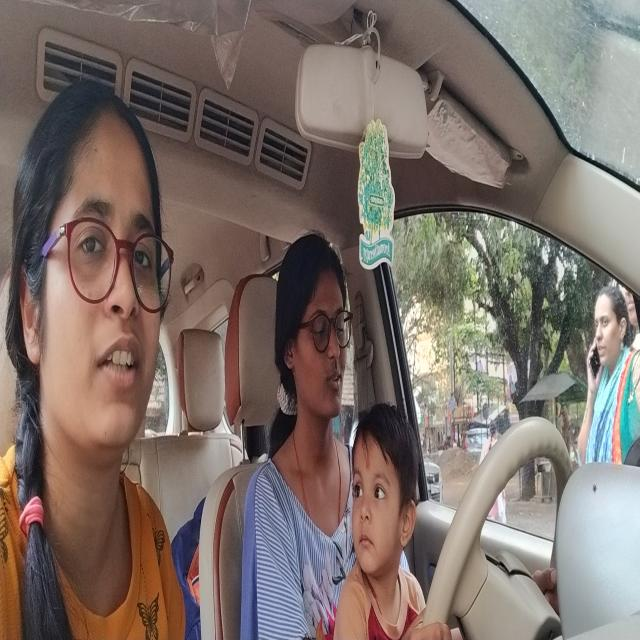child: (347, 398, 423, 582)
person: (8, 71, 177, 474), (272, 217, 354, 436)
